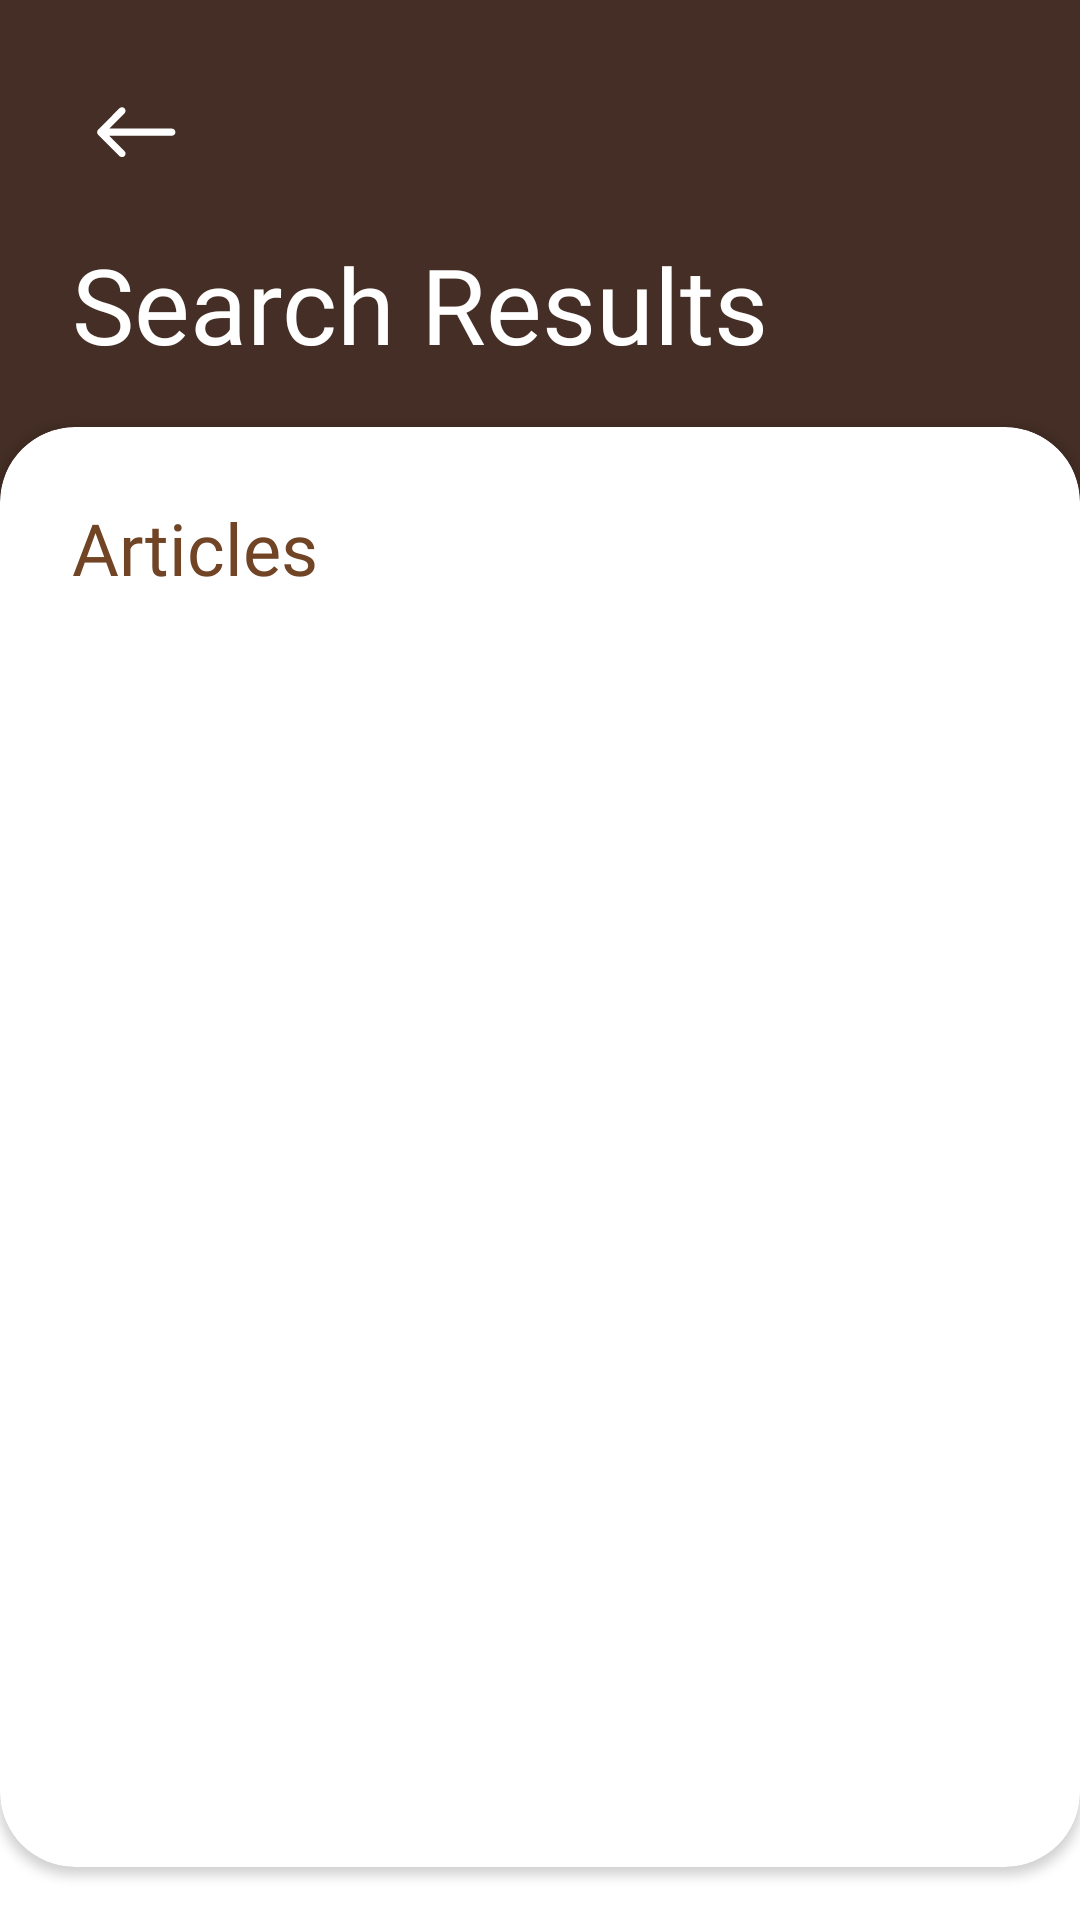

Locate icon controls on the screen. Image size 1080 × 1920, boxes as (x1, y1, x2, y2).
left arrow: (97, 107, 176, 157)
